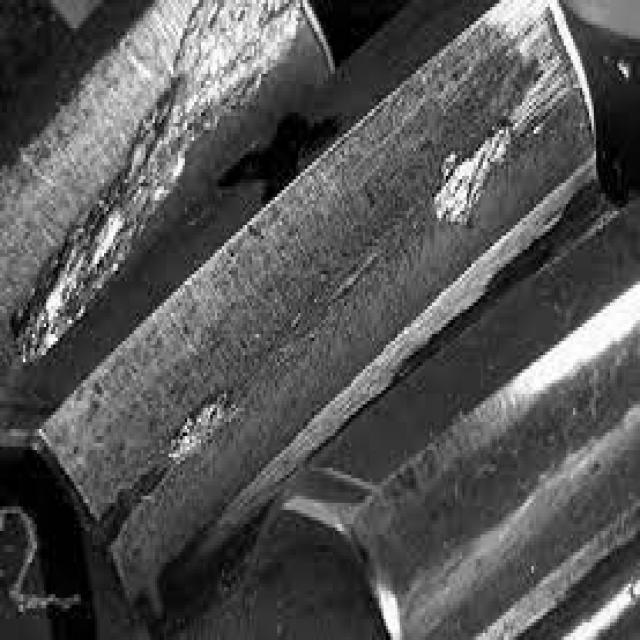Fault-Exist: (21, 10, 628, 621)
